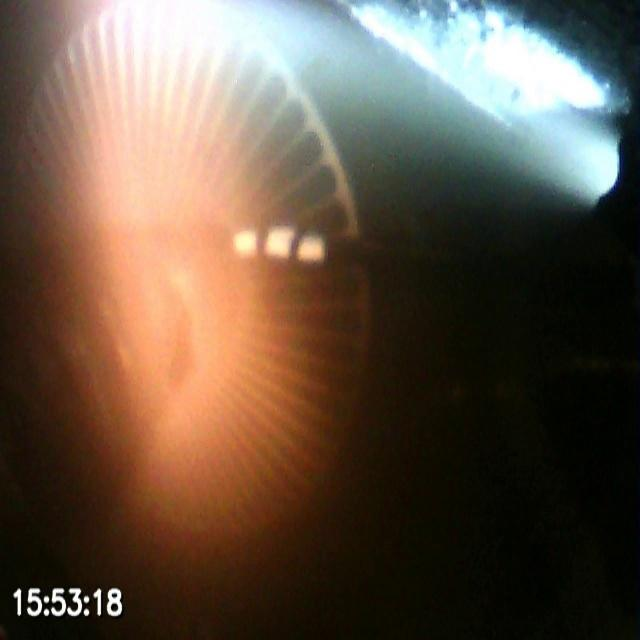white-dots: (232, 222, 328, 267)
